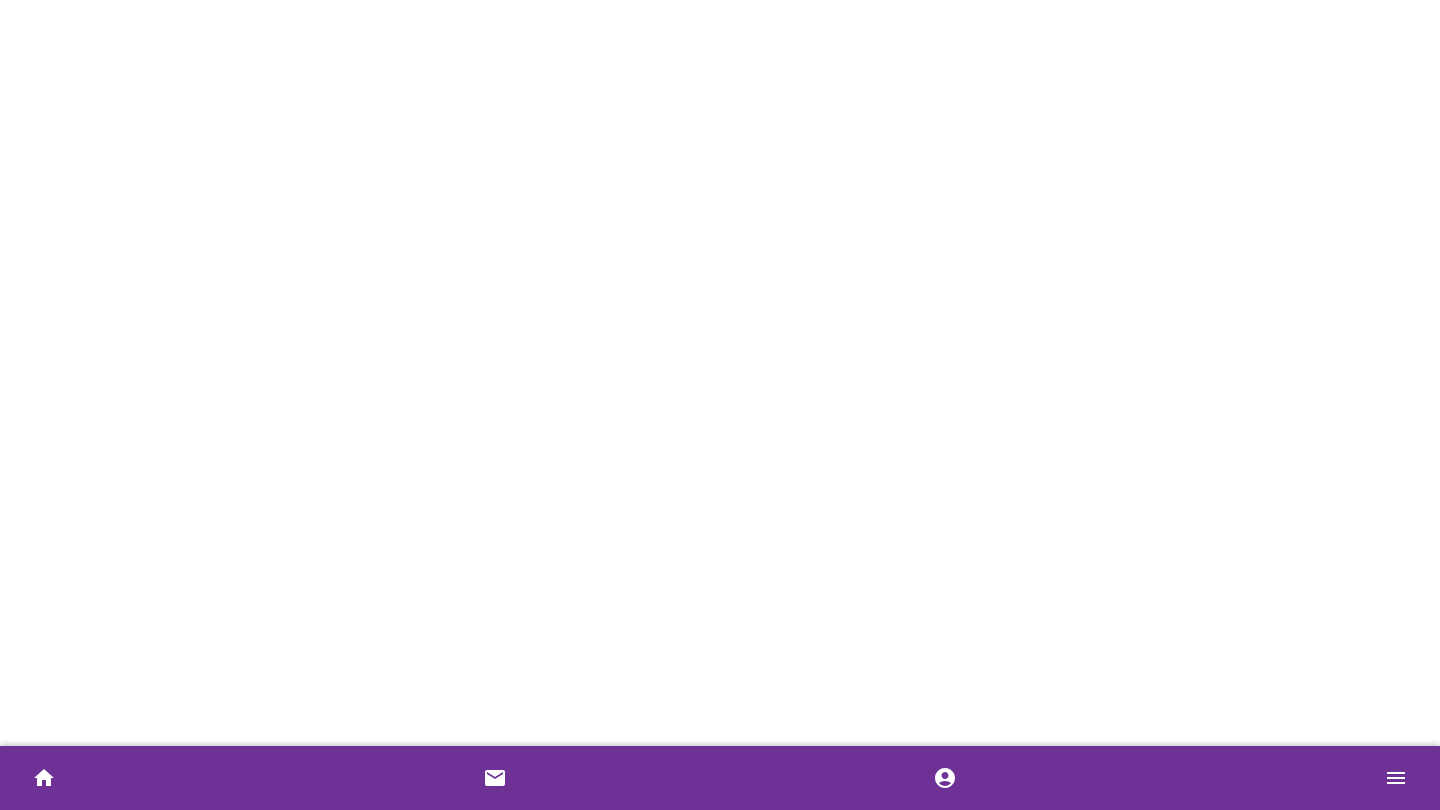
Scenario: MenuMobile Component › opens and closes the drawer
Expected: the text "My profile" is not shown
Click the button named "menu".
click(1396, 778)  # box [1376,758,1416,798]
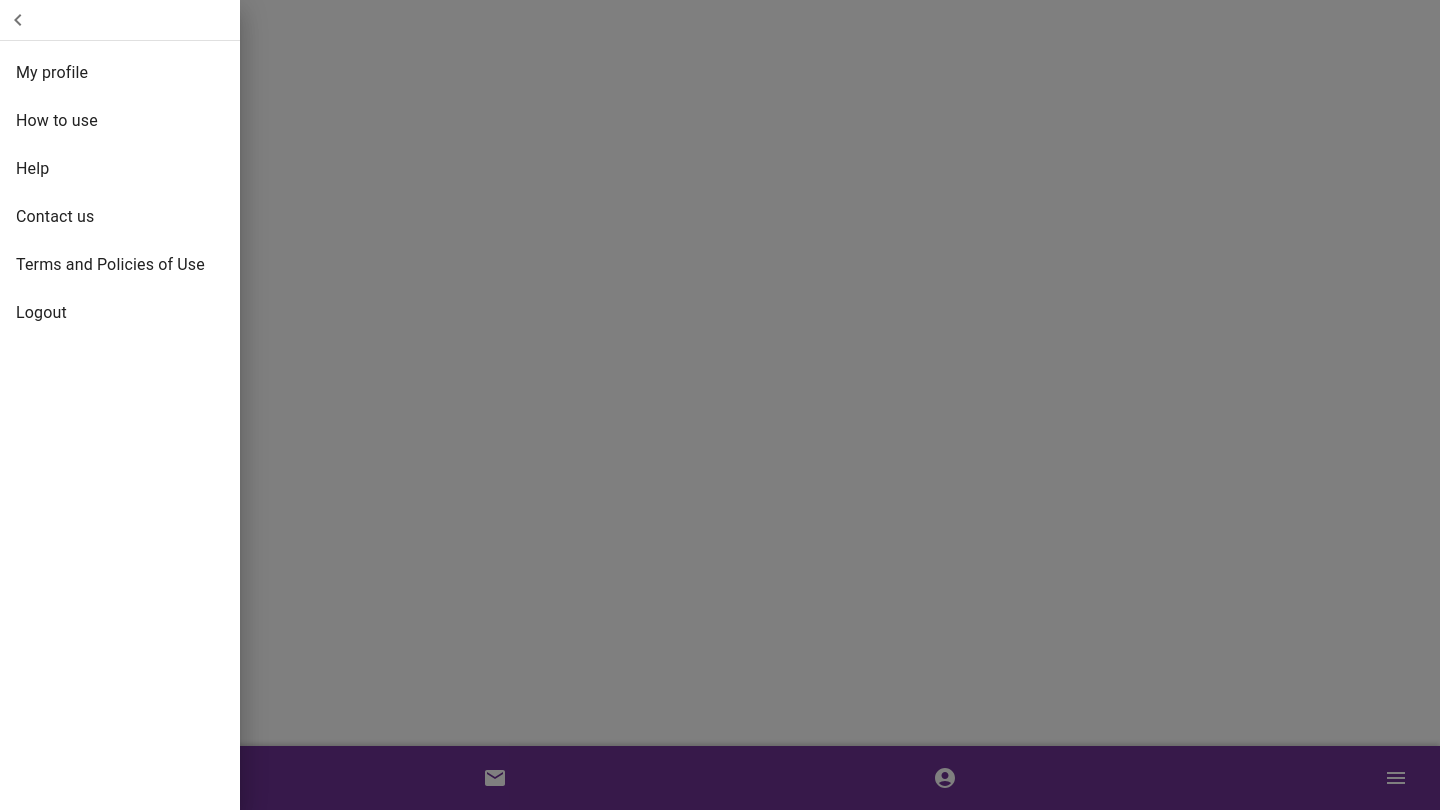
Now the text "My profile" is shown, box [16,63,88,82]
Click the button named "close drawer".
click(18, 20)  # box [8,0,28,40]
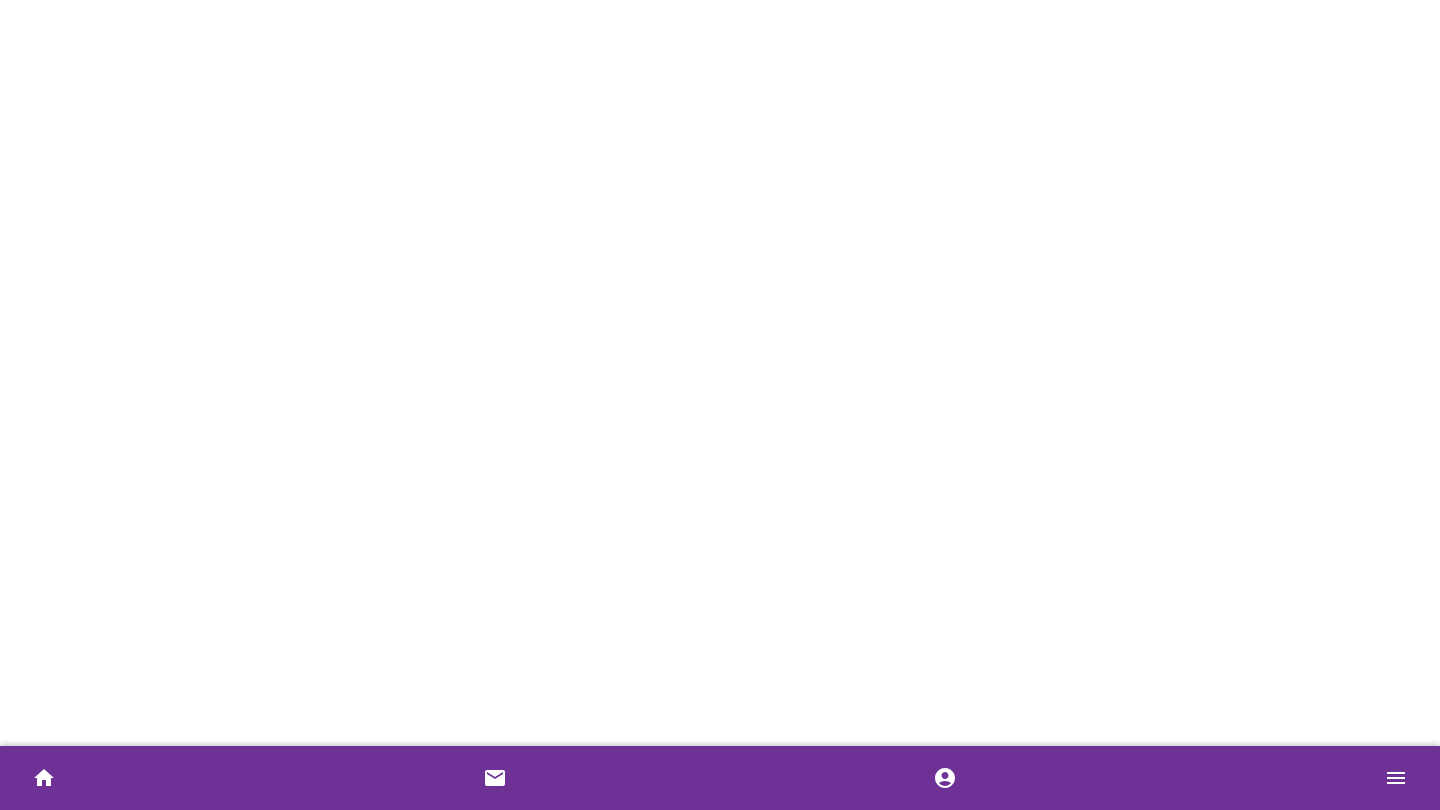
Now the button "My profile" is gone
